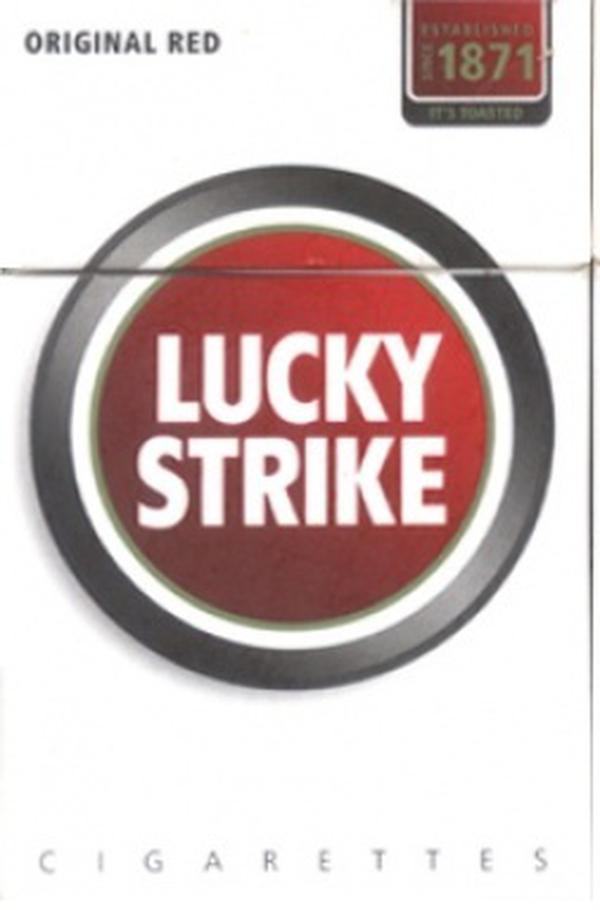lucky_strike_red: (3, 1, 593, 910)
